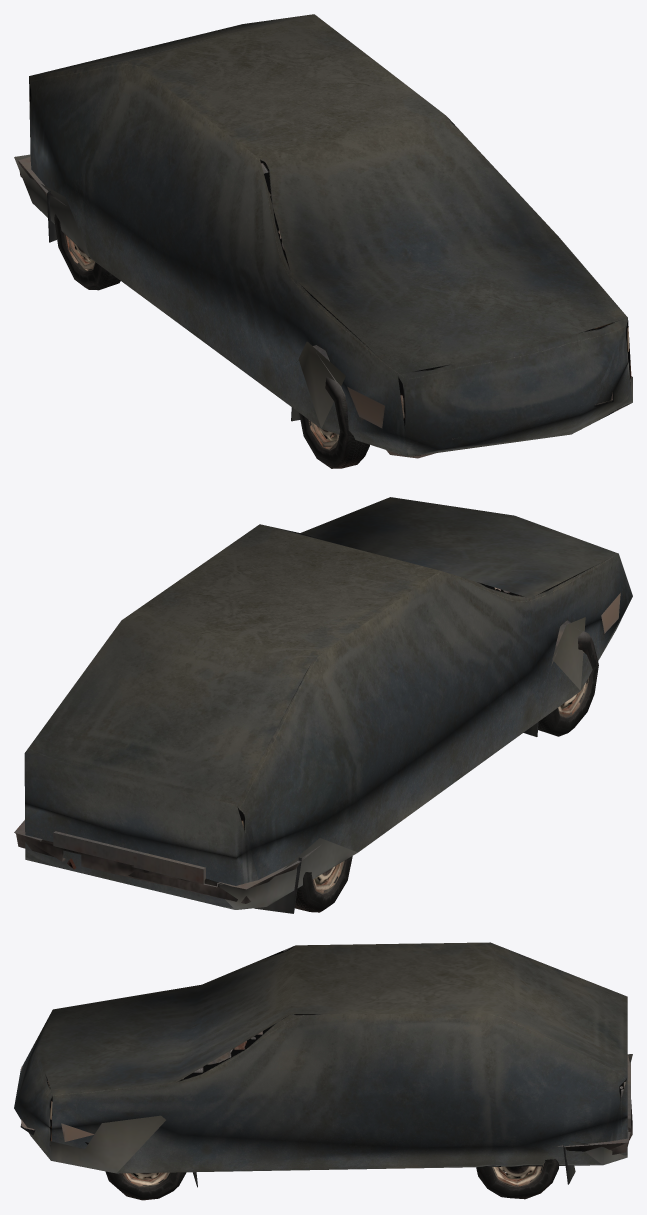
The model's file is covered_car_game.gltf.
The picture shows the model from 3 angles, top to bottom: view 1: azimuth 30°, elevation 25°; view 2: azimuth 150°, elevation 25°; view 3: azimuth 270°, elevation 25°; orthographic projection. The views are drawn at different scales.
Visible parts, largest first — view 1: covered_car, covered_car_wheel_02, covered_car_wheel_03; view 2: covered_car, covered_car_wheel_02, covered_car_wheel_03; view 3: covered_car, covered_car_wheel_04, covered_car_wheel_01.
Part boxes in pixels (x1,y1,x2,y2): covered_car: (14, 14, 632, 458); covered_car_wheel_02: (299, 376, 369, 468); covered_car_wheel_03: (54, 214, 120, 290); covered_car: (14, 497, 632, 913); covered_car_wheel_02: (538, 631, 598, 736); covered_car_wheel_03: (295, 856, 352, 912); covered_car: (14, 942, 632, 1187); covered_car_wheel_04: (476, 1159, 559, 1199); covered_car_wheel_01: (105, 1171, 186, 1200).
Size of the model in its own units: 1.74 by 1.35 by 4.3.
Materials: 2 (2 with a texture image).
